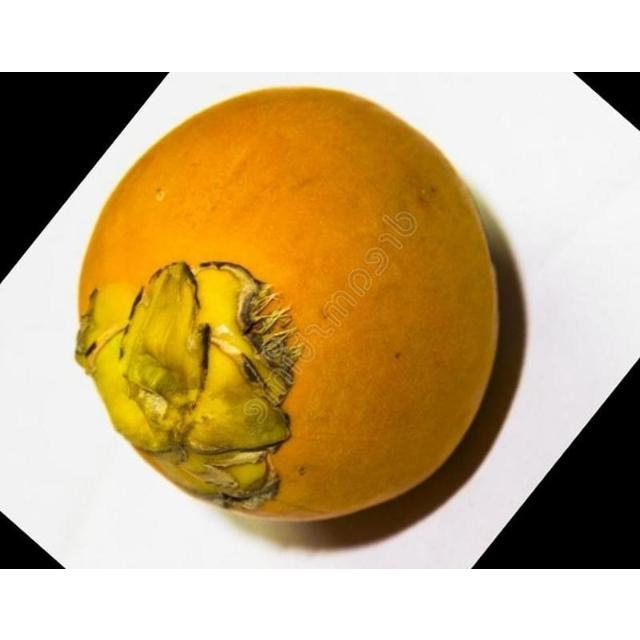good: (75, 86, 502, 521)
